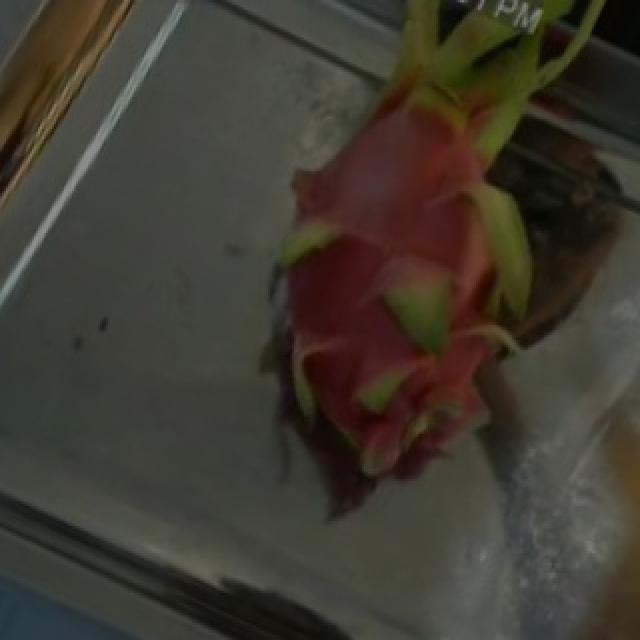fruit: (224, 2, 640, 390)
